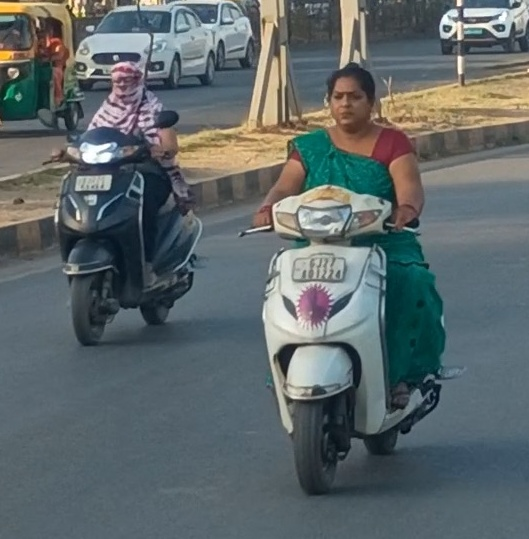BikeWithRider: (236, 54, 479, 497), (27, 53, 216, 348)
NoHelmet: (319, 58, 384, 133), (100, 54, 149, 104)
